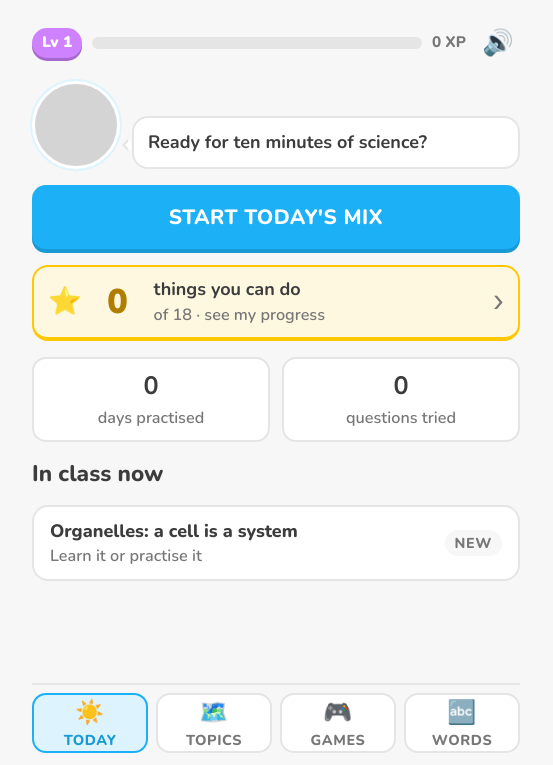
Test case: "I don't know" › shows the answer kindly, counts as not yet, and the question comes back at the end
Later steps or results of the test are not shown.
What coordinates should you click on to do the following:
click the button "Start today's mix"
I would click on:
 (276, 217)
Its box is [32,185,520,249].
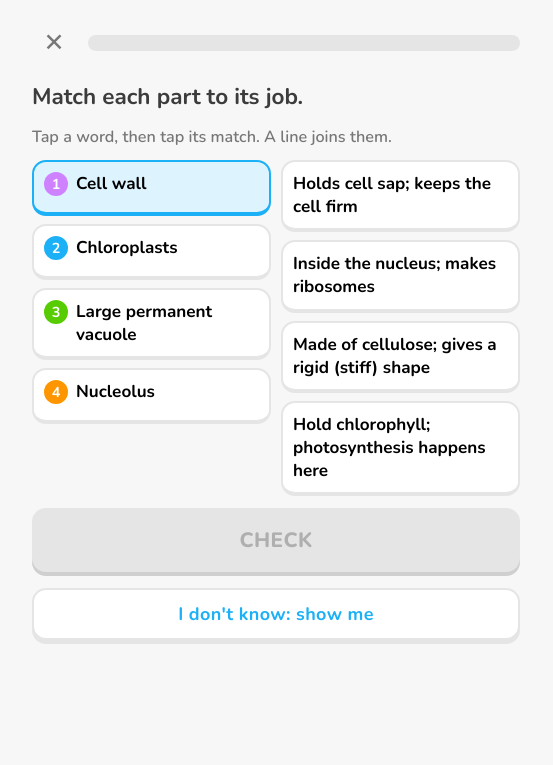
What coordinates should you click on to do the following:
click the button "I don't know: show me"
I would click on:
 (276, 614)
Its box is [32,588,520,640].
(page scrolled)
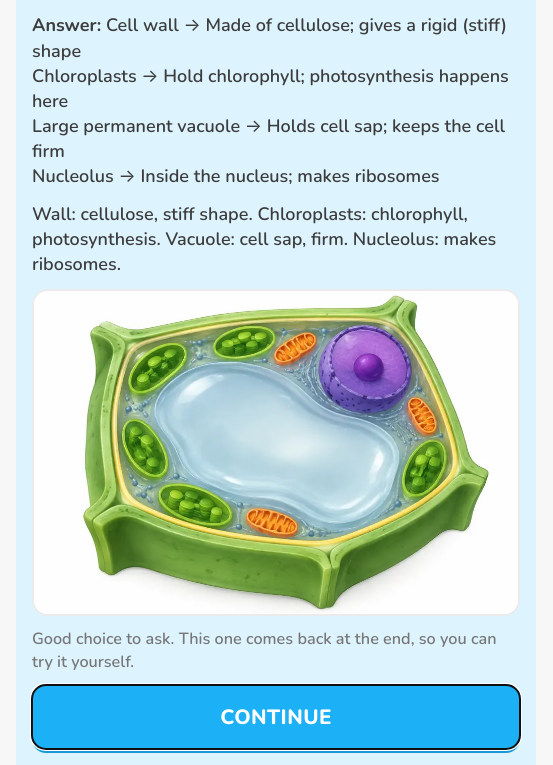
expect the text "comes back at the end" is shown: met, box [32,628,496,673]
expect the button "I don't know: show me" is gone: met
